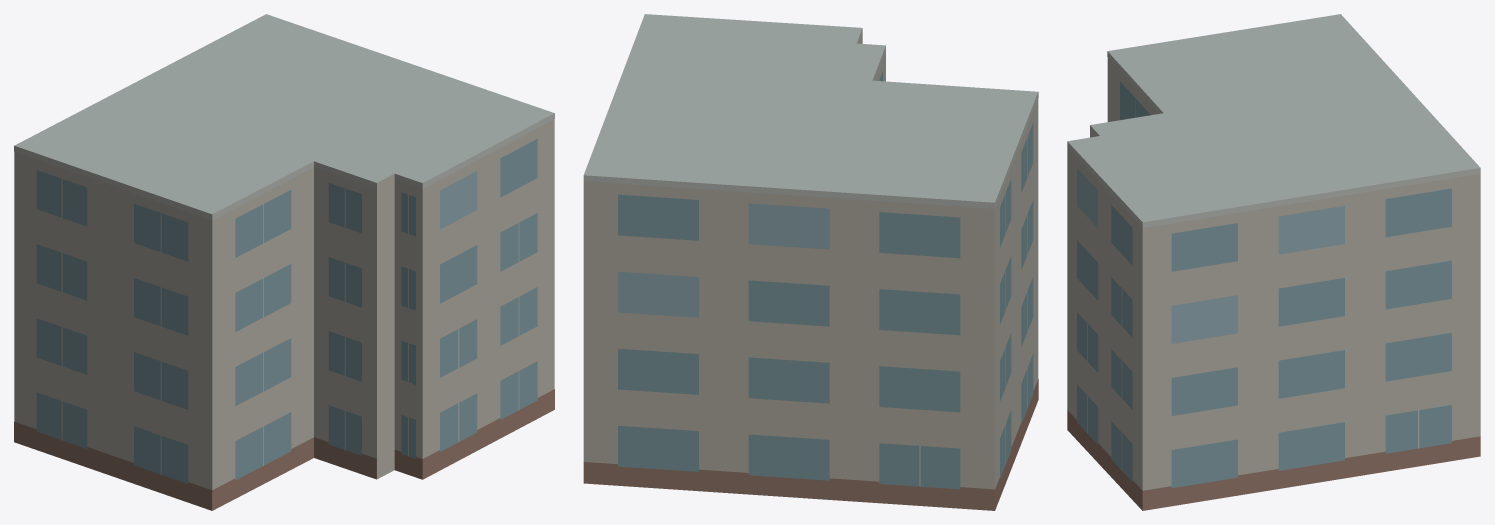
The model's file is survey-upis-32698462.glb.
3 views of the same model, side by side, from view 1: azimuth 30°, elevation 25°; view 2: azimuth 150°, elevation 25°; view 3: azimuth 270°, elevation 25° (orthographic). The views are drawn at different scales.
Visible parts, largest first — view 1: survey-upis-32698462.tmp; view 2: survey-upis-32698462.tmp; view 3: survey-upis-32698462.tmp.
Boxes of the visible parts, left/top/right/bottom form: survey-upis-32698462.tmp: left=14, top=14, right=554, bottom=510; survey-upis-32698462.tmp: left=583, top=14, right=1038, bottom=510; survey-upis-32698462.tmp: left=1067, top=14, right=1480, bottom=510.
Bounding box in the file's own units: 18.9 × 12.2 × 15.85.
